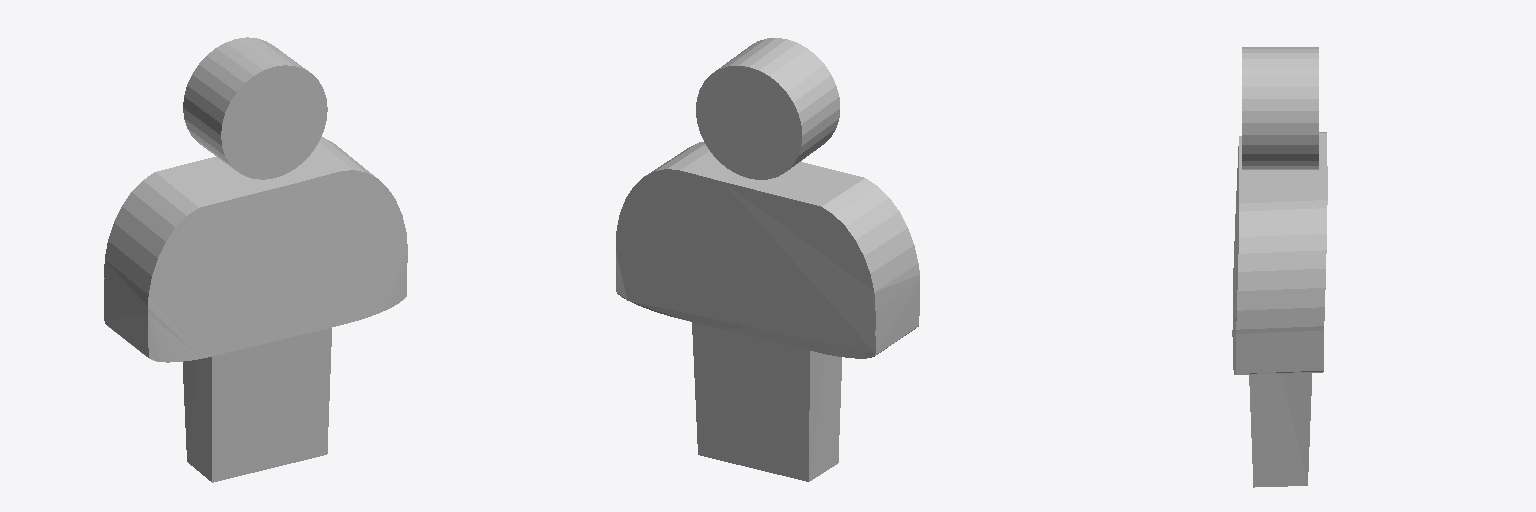
File: person.obj
3 renders of one model, left to right at view 1: azimuth 30°, elevation 25°; view 2: azimuth 150°, elevation 25°; view 3: azimuth 270°, elevation 25°, orthographic.
Parts seen in each view (by area): view 1: Cylinder_Cylinder.001; view 2: Cylinder_Cylinder.001; view 3: Cylinder_Cylinder.001.
Boxes of the visible parts, box(x1,y1,x2,y2) form: Cylinder_Cylinder.001: box(104, 37, 407, 482); Cylinder_Cylinder.001: box(616, 38, 919, 481); Cylinder_Cylinder.001: box(1232, 47, 1327, 487).
Size of the model in its own units: 488 by 728 by 154.